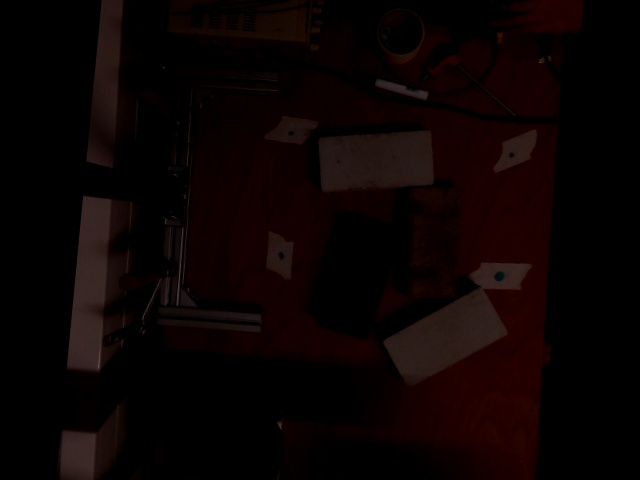brick: (383, 288, 506, 387), (318, 218, 402, 340), (319, 128, 431, 190), (405, 186, 461, 292)
